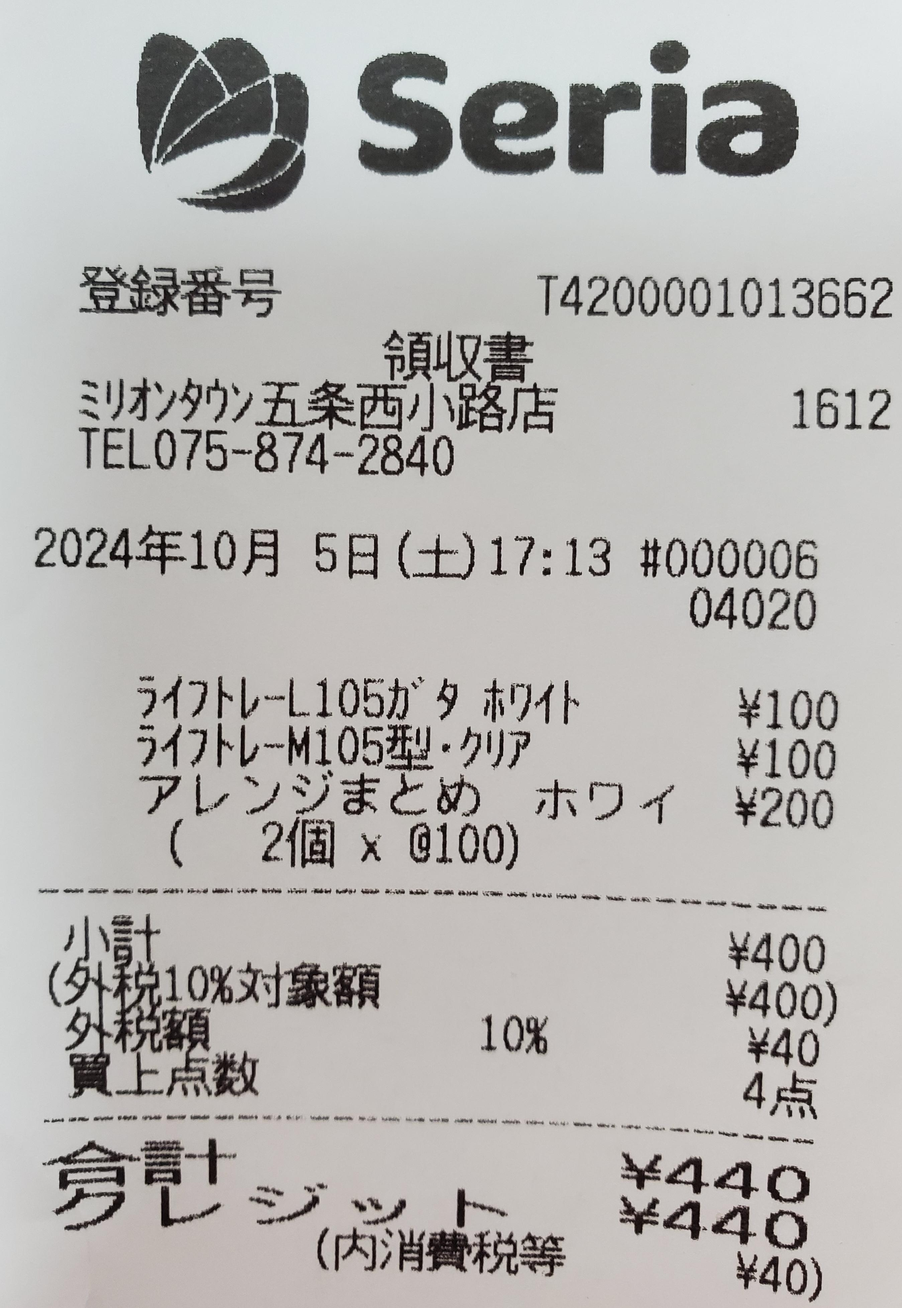TEL: (152, 427, 468, 482)
date: (22, 517, 393, 589)
total: (665, 1145, 827, 1206)
